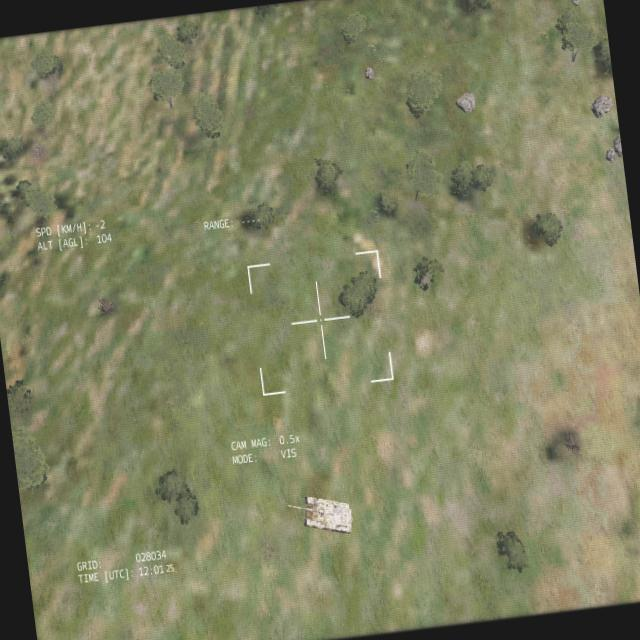tank: (281, 486, 354, 540)
